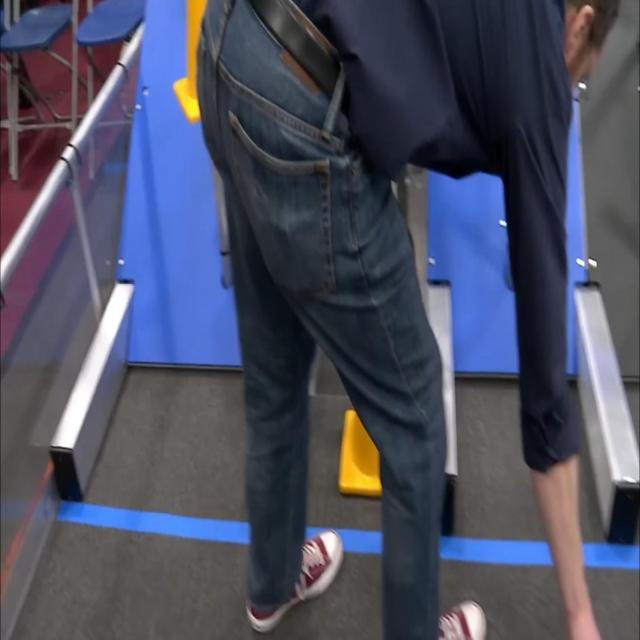frc_cone: (172, 0, 213, 120), (338, 404, 382, 494)
